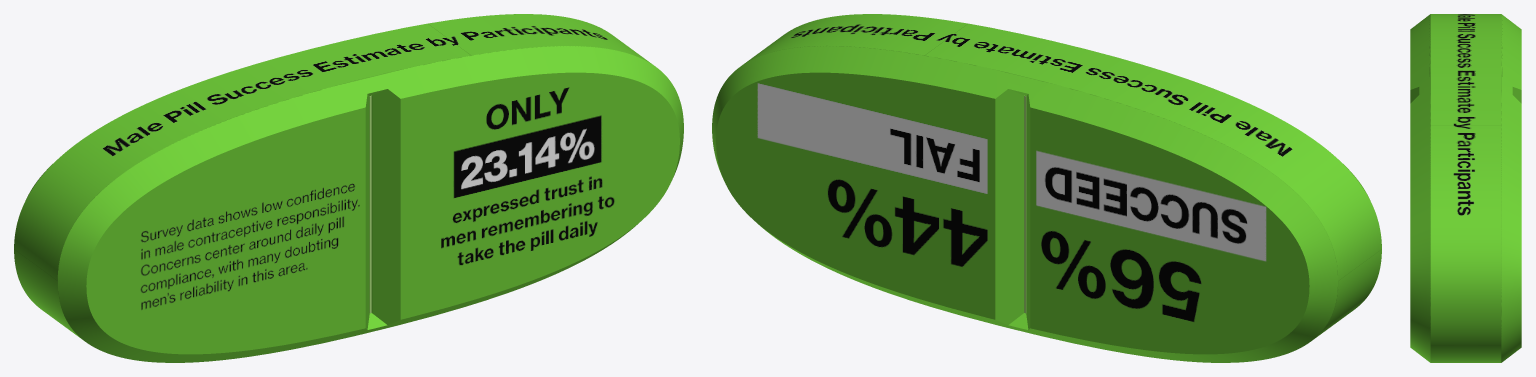
Rendered from greenpill_text.gltf.
3 views of the same model, side by side, from view 1: azimuth 30°, elevation 25°; view 2: azimuth 150°, elevation 25°; view 3: azimuth 270°, elevation 25° (orthographic). The views are drawn at different scales.
Bounding box in the file's own units: 0.1493 × 0.0582 × 0.0282.
2 materials, 1 textured.
